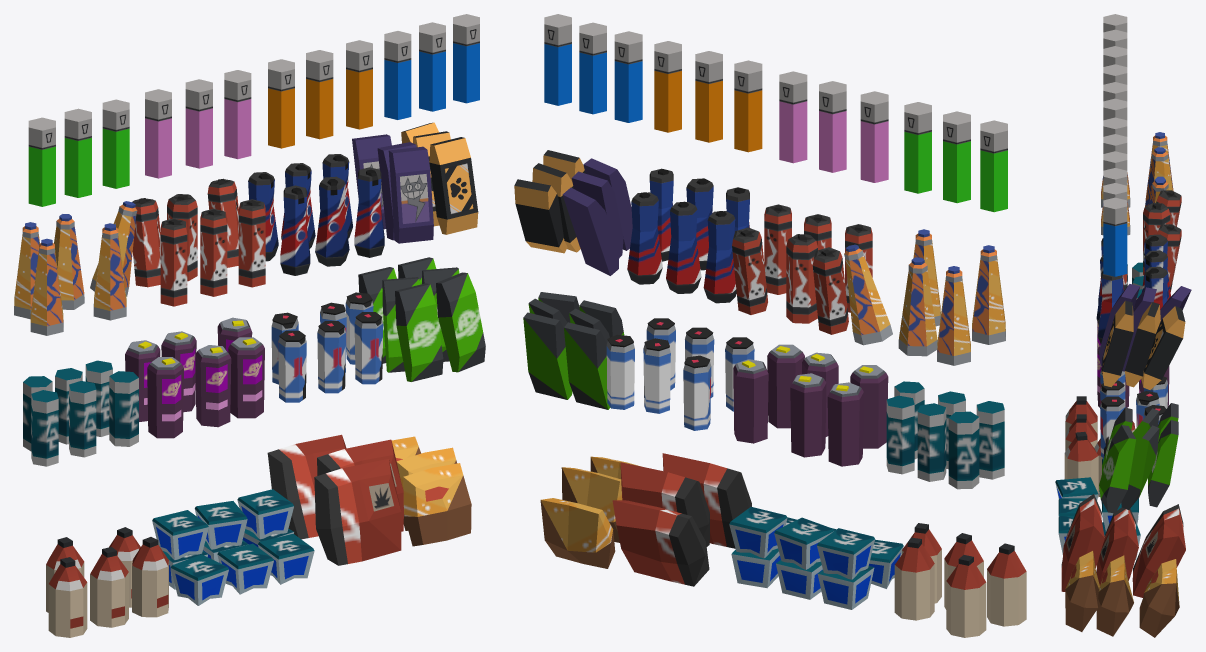
The model's file is SM_Prop_Food_Shelf_01_Insert_01.fbx.
3 renders of one model, left to right at view 1: azimuth 30°, elevation 25°; view 2: azimuth 150°, elevation 25°; view 3: azimuth 270°, elevation 25°, orthographic. The views are drawn at different scales.
Parts seen in each view (by area): view 1: SM_Prop_Food_Shelf_01_Insert_01; view 2: SM_Prop_Food_Shelf_01_Insert_01; view 3: SM_Prop_Food_Shelf_01_Insert_01.
Boxes of the visible parts, x1,y1,x2,y2 form: SM_Prop_Food_Shelf_01_Insert_01: [14, 14, 485, 637]; SM_Prop_Food_Shelf_01_Insert_01: [514, 14, 1026, 637]; SM_Prop_Food_Shelf_01_Insert_01: [1055, 14, 1191, 637].
Size of the model in its own units: 164 by 173 by 48.18.
